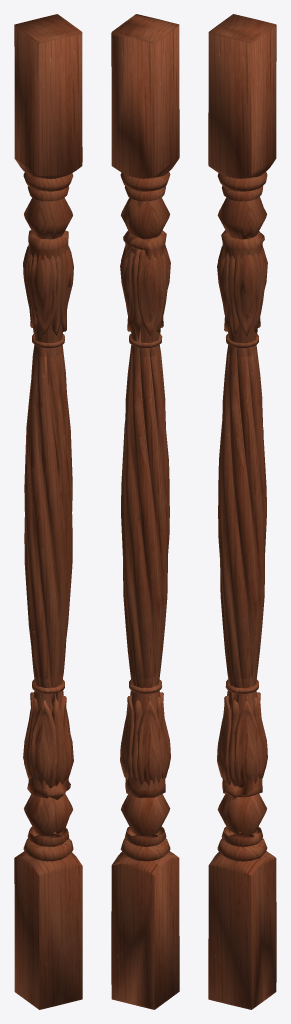
Rendered from small_col.gltf.
3 views of the same model, side by side, from view 1: azimuth 30°, elevation 25°; view 2: azimuth 150°, elevation 25°; view 3: azimuth 330°, elevation 25° (orthographic).
Parts seen in each view (by area): view 1: Plane001; view 2: Plane001; view 3: Plane001.
Part boxes in pixels (left/top/right/bottom): Plane001: left=14, top=14, right=82, bottom=1009; Plane001: left=111, top=14, right=179, bottom=1009; Plane001: left=208, top=14, right=276, bottom=1009.
Bounding box in the file's own units: 0.00158 × 0.0335 × 0.00159.
Materials: 1 (1 with a texture image).
